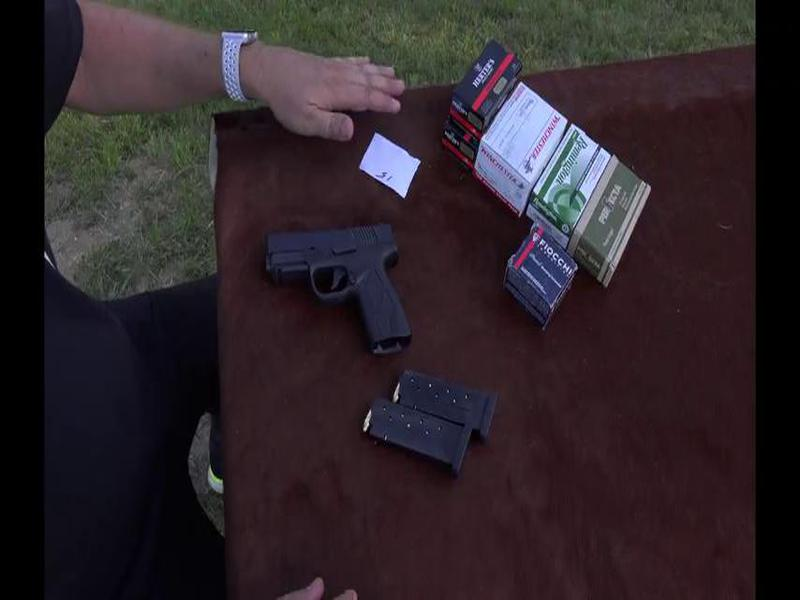Pistola: (260, 232, 417, 375)
